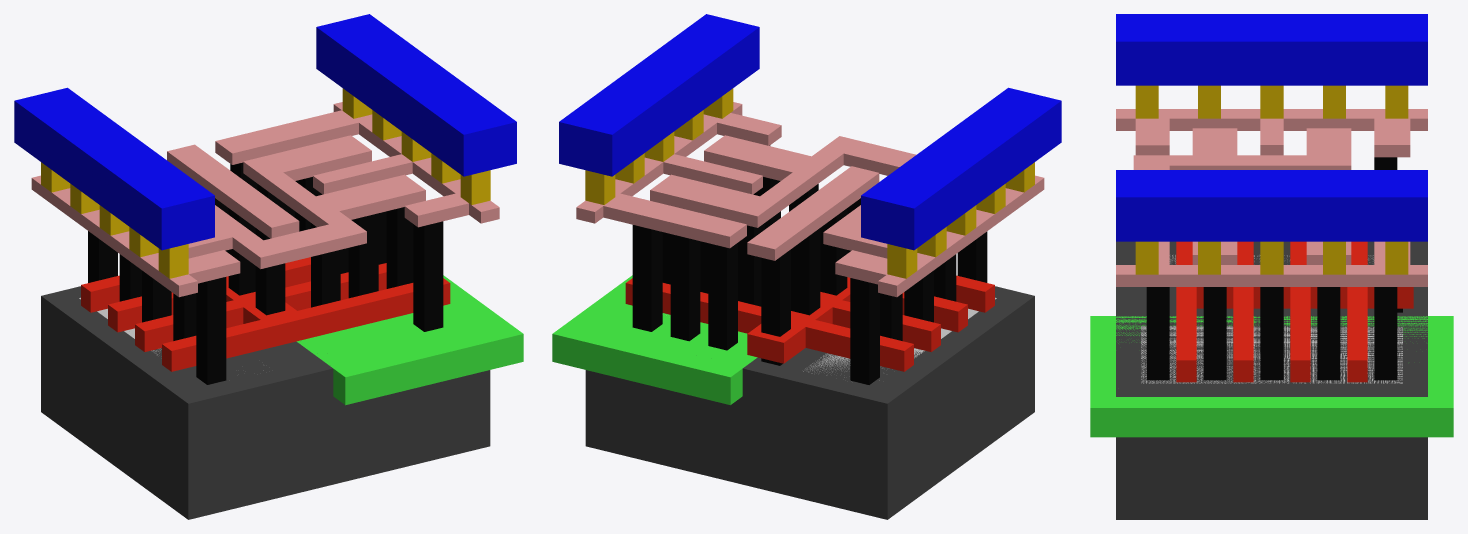
The model's file is sky130_fd_sc_hd__inv_4.obj.
3 views of the same model, side by side, from view 1: azimuth 30°, elevation 25°; view 2: azimuth 150°, elevation 25°; view 3: azimuth 270°, elevation 25° (orthographic). The views are drawn at different scales.
Visible parts, largest first — view 1: subs, metal1, li, licon, nwell, poly, mcon; view 2: subs, metal1, li, licon, nwell, poly, mcon, diff; view 3: metal1, subs, li, nwell, licon, poly, mcon, tap.
Boxes of the visible parts, x1=… form: subs: x1=41, y1=286, x2=490, y2=519; metal1: x1=14, y1=14, x2=516, y2=250; li: x1=31, y1=102, x2=499, y2=297; licon: x1=88, y1=162, x2=443, y2=384; nwell: x1=296, y1=275, x2=523, y2=405; poly: x1=81, y1=257, x2=450, y2=371; mcon: x1=41, y1=88, x2=490, y2=278; subs: x1=585, y1=286, x2=1034, y2=519; metal1: x1=559, y1=14, x2=1061, y2=250; li: x1=576, y1=102, x2=1044, y2=297; licon: x1=632, y1=145, x2=987, y2=384; nwell: x1=552, y1=275, x2=757, y2=405; poly: x1=625, y1=275, x2=994, y2=371; mcon: x1=585, y1=88, x2=1034, y2=278; diff: x1=803, y1=297, x2=996, y2=380; metal1: x1=1116, y1=14, x2=1427, y2=241; subs: x1=1116, y1=241, x2=1427, y2=519; li: x1=1116, y1=109, x2=1427, y2=286; nwell: x1=1090, y1=316, x2=1453, y2=437; licon: x1=1146, y1=157, x2=1402, y2=380; poly: x1=1176, y1=241, x2=1413, y2=382; mcon: x1=1135, y1=85, x2=1408, y2=274; tap: x1=1141, y1=326, x2=1402, y2=383.
Bounding box in the file's own units: 3.2 × 2.74 × 2.68.
